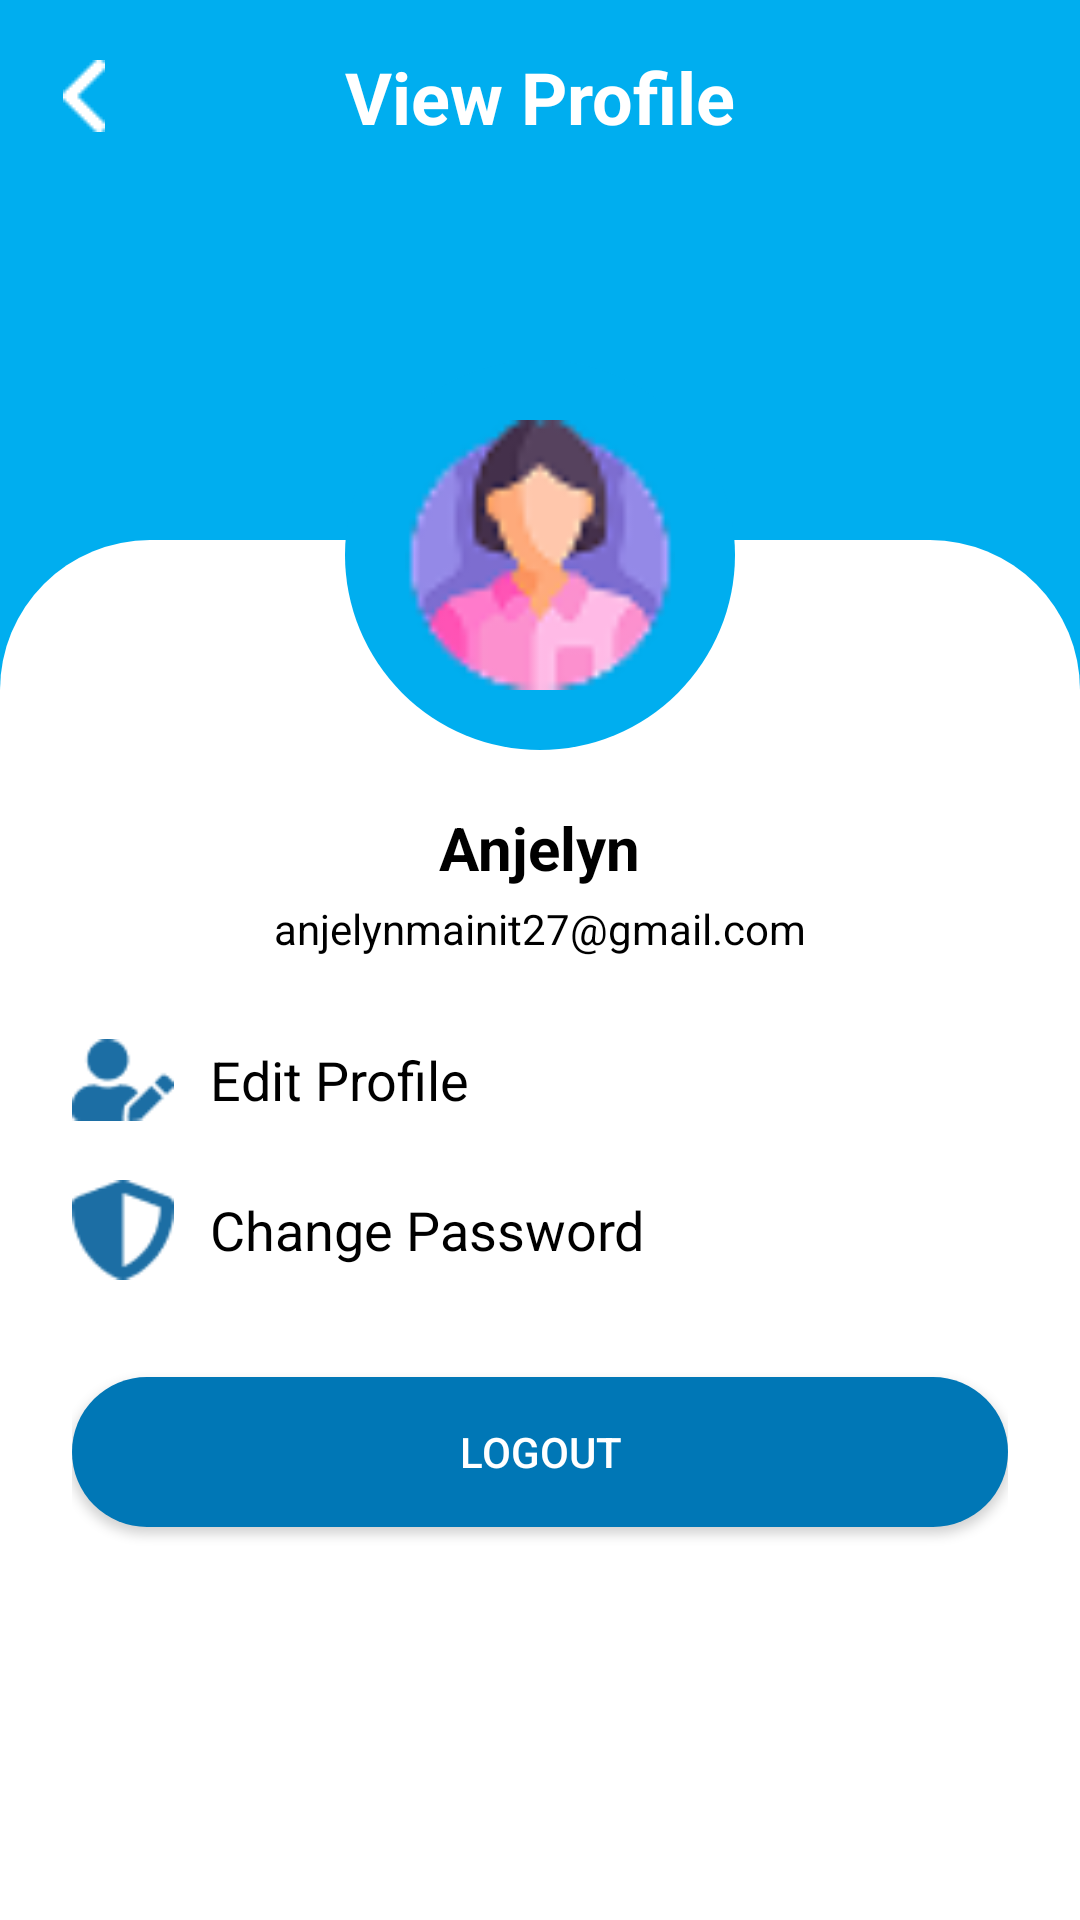

Screen size 1080 × 1920. Icon name, then its center in pixels as (x,y):
Back: (84,96)
privacyicon: (123,1230)
profileicon: (540,555)
